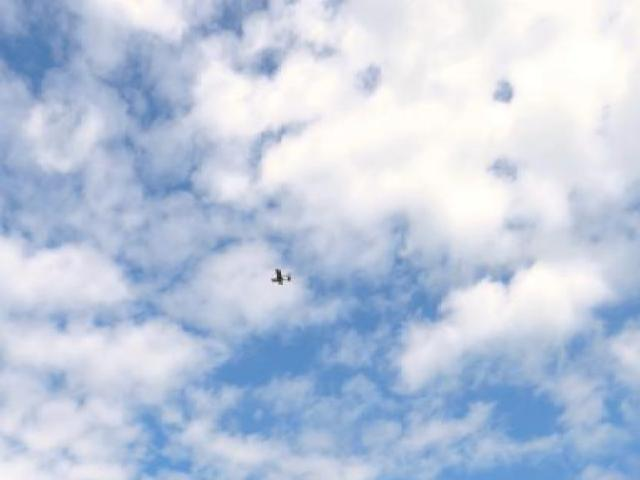uav: (270, 267, 292, 288)
